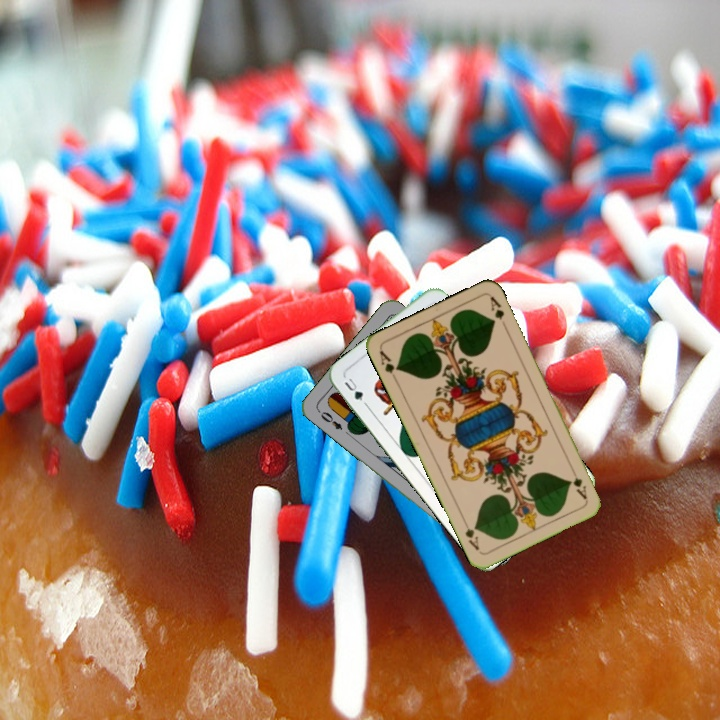EO: (314, 406, 345, 433)
GA: (375, 346, 402, 385), (567, 463, 590, 502)
GU: (340, 372, 366, 404)
